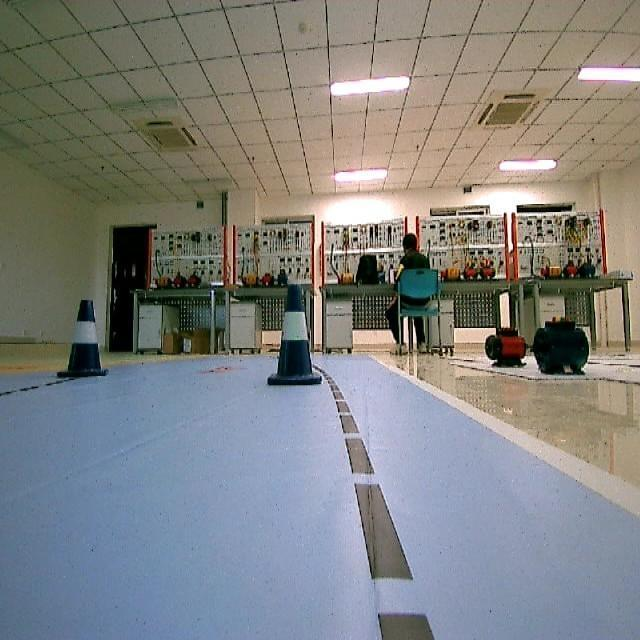obstacle: (264, 279, 325, 391), (51, 291, 112, 380)
